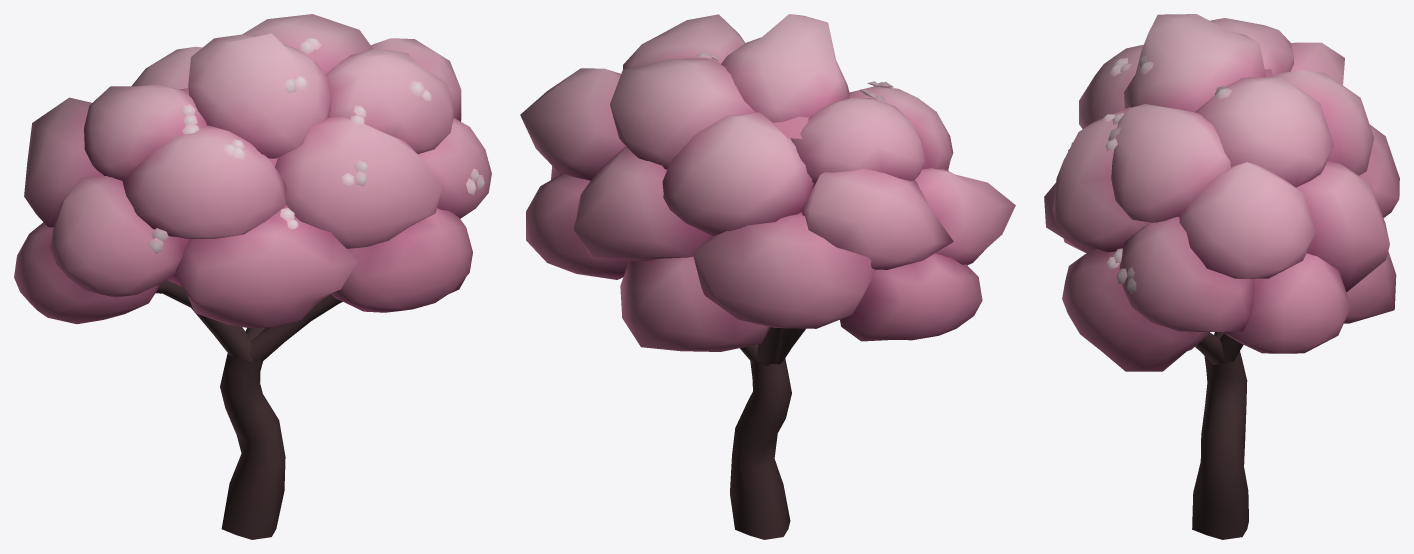
File: CherryBlossom.fbx
The picture shows the model from 3 angles, left to right: view 1: azimuth 30°, elevation 25°; view 2: azimuth 150°, elevation 25°; view 3: azimuth 270°, elevation 25°; orthographic projection. The views are drawn at different scales.
Visible parts, largest first — view 1: CherryBlossom; view 2: CherryBlossom; view 3: CherryBlossom.
Part boxes in pixels (box(x1,y1,x2,y2)): CherryBlossom: box(14, 14, 491, 539); CherryBlossom: box(520, 14, 1015, 539); CherryBlossom: box(1044, 14, 1399, 539).
Size of the model in its own units: 5.67 by 6.27 by 4.
